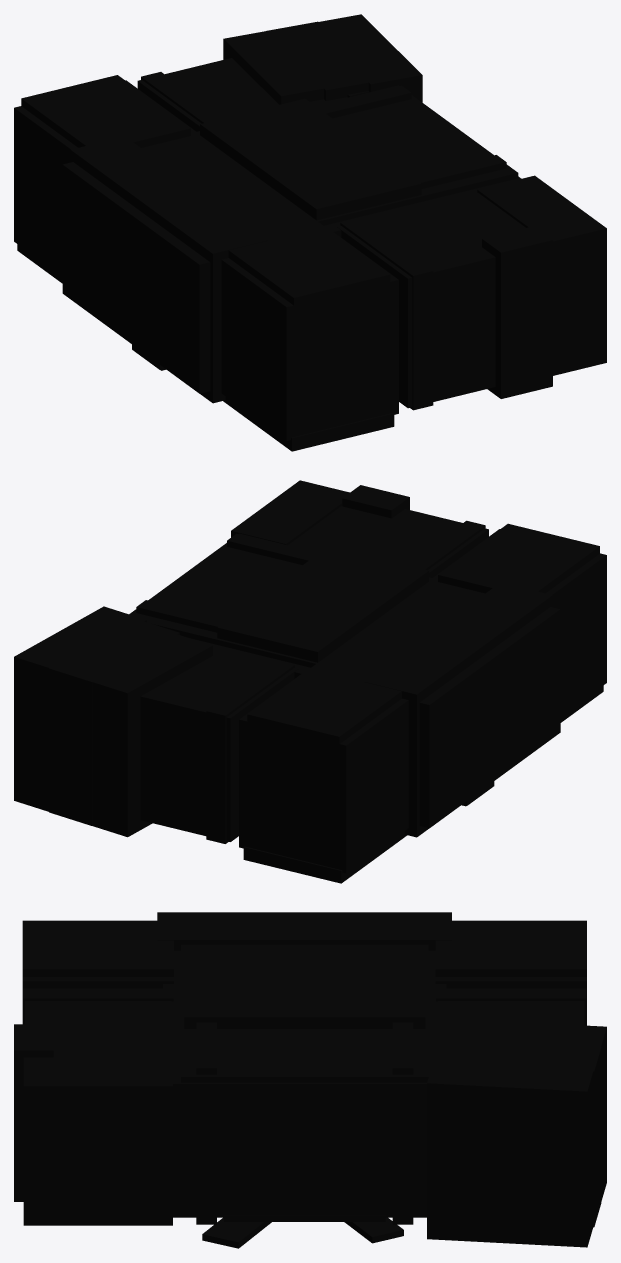
File: bench_chestplate_5.obj
The picture shows the model from 3 angles, top to bottom: view 1: azimuth 30°, elevation 25°; view 2: azimuth 150°, elevation 25°; view 3: azimuth 270°, elevation 25°; orthographic projection. The views are drawn at different scales.
Visible parts, largest first — view 1: geometry; view 2: geometry; view 3: geometry.
Boxes of the visible parts, <box> form: geometry: <box>14,14,606,451</box>; geometry: <box>14,480,606,883</box>; geometry: <box>14,912,606,1248</box>.
Size of the model in its own units: 0.5546 by 0.249 by 0.75.
